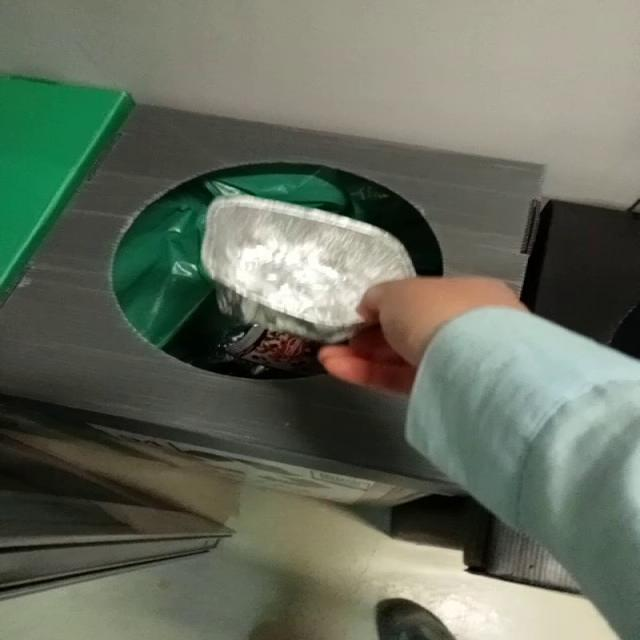bin: (1, 105, 544, 500)
metal: (201, 195, 416, 344)
